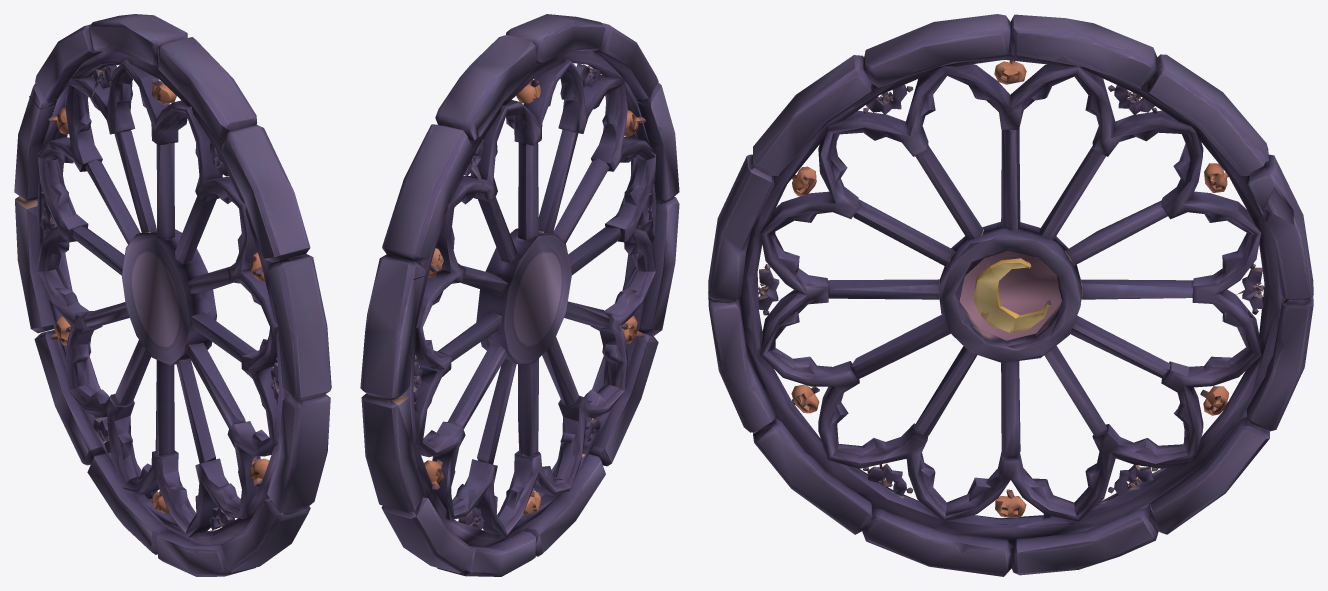
The model's file is L2_RoseWindow_LOD2.fbx.
The picture shows the model from 3 angles, left to right: view 1: azimuth 30°, elevation 25°; view 2: azimuth 150°, elevation 25°; view 3: azimuth 270°, elevation 25°; orthographic projection. The views are drawn at different scales.
Visible parts, largest first — view 1: L2_RoseWindow_LOD2; view 2: L2_RoseWindow_LOD2; view 3: L2_RoseWindow_LOD2.
Boxes of the visible parts, x1,y1,x2,y2 form: L2_RoseWindow_LOD2: (14, 14, 331, 576); L2_RoseWindow_LOD2: (360, 14, 679, 576); L2_RoseWindow_LOD2: (708, 14, 1313, 576).
Bounding box in the file's own units: 1.2 × 14 × 13.99.
1 material, 1 textured.
